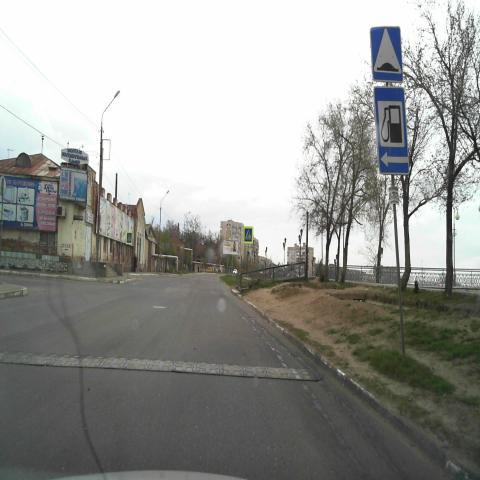7_3: (373, 86, 411, 175)
